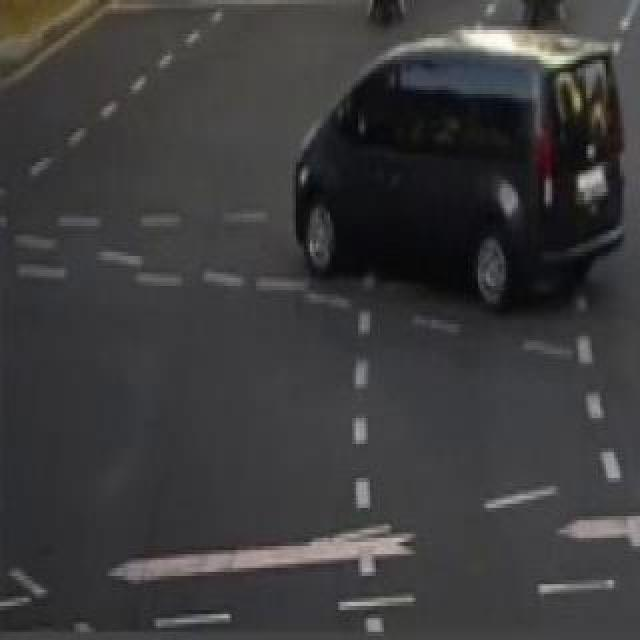motorbike: (344, 0, 414, 32), (514, 0, 566, 30)
